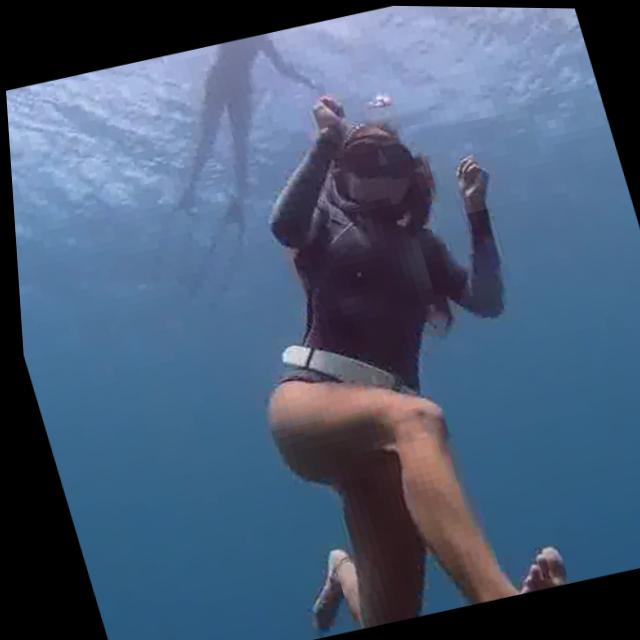human: (133, 51, 616, 640), (120, 23, 344, 230)
